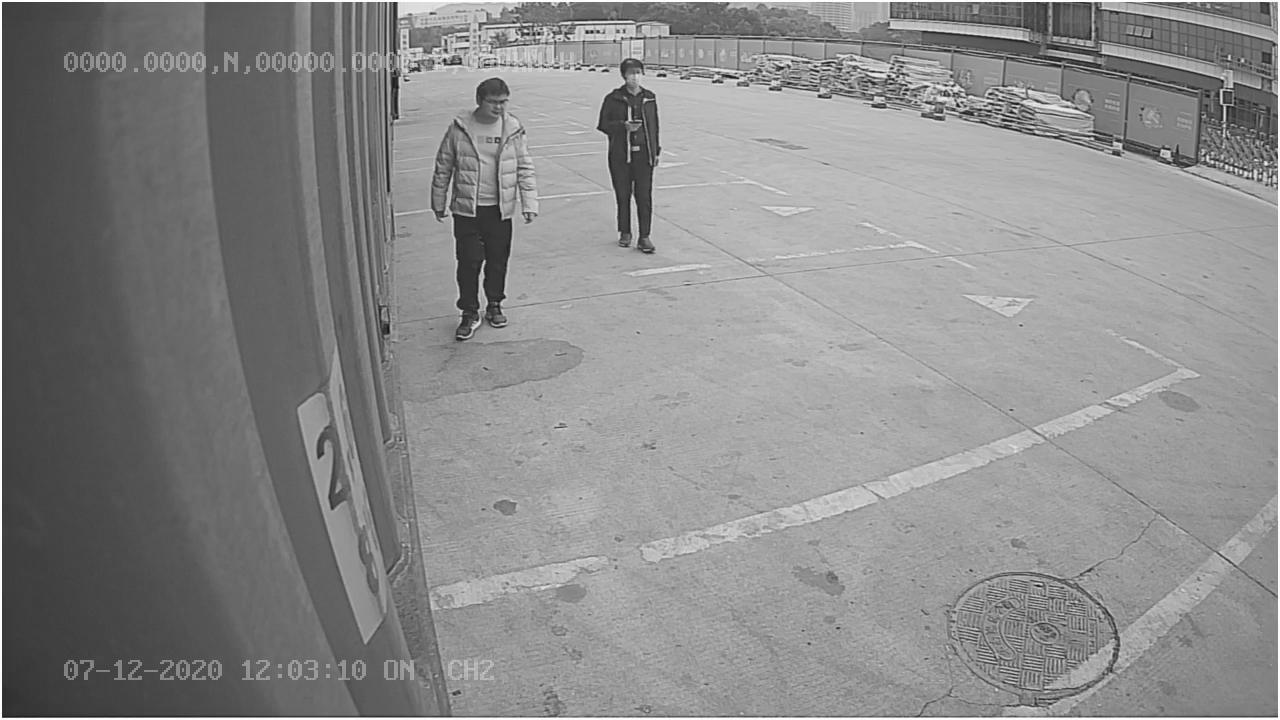person: (430, 75, 541, 338)
